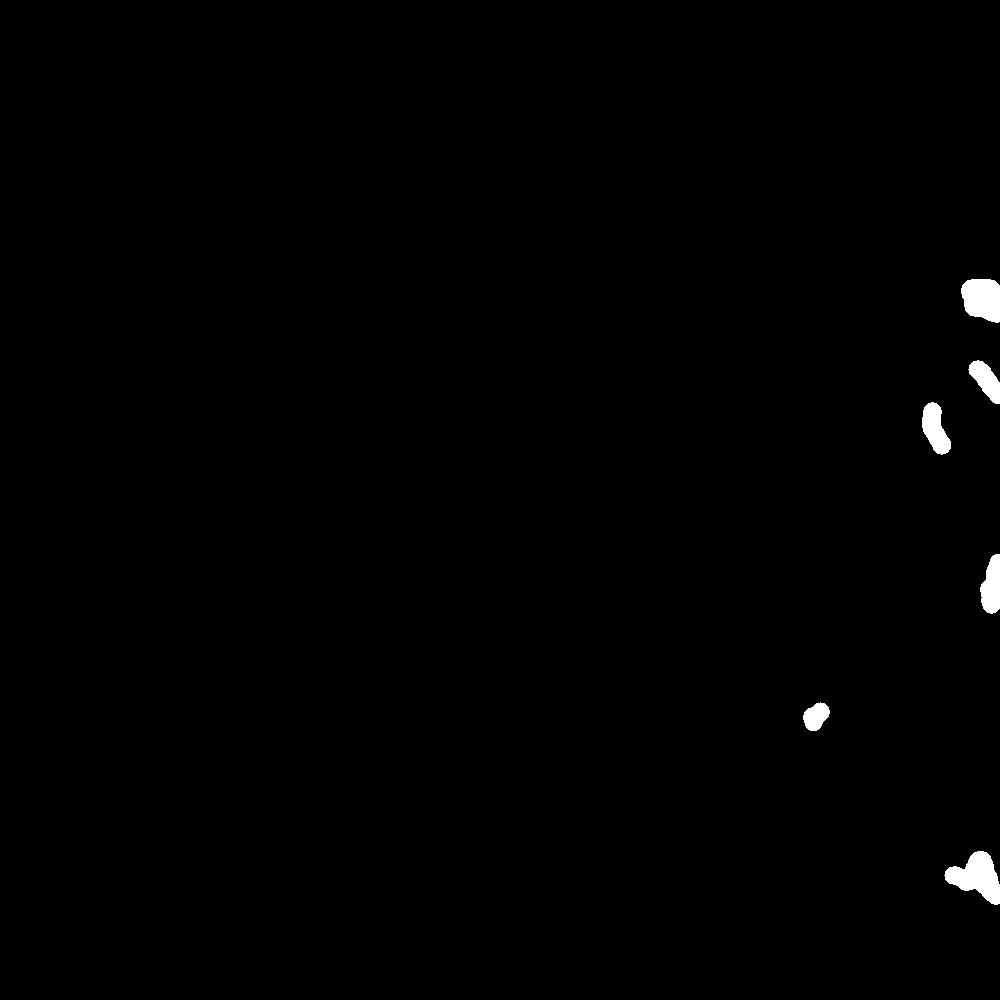illegal: (927, 401, 974, 502), (942, 278, 1000, 333), (944, 858, 1000, 893), (975, 560, 1000, 618), (808, 696, 836, 730)
